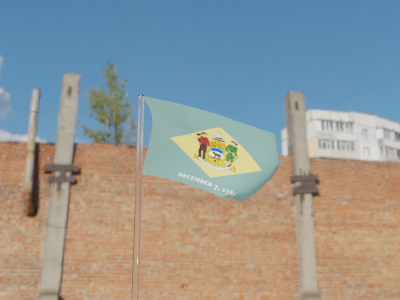Delaware flag: (144, 96, 284, 202)
